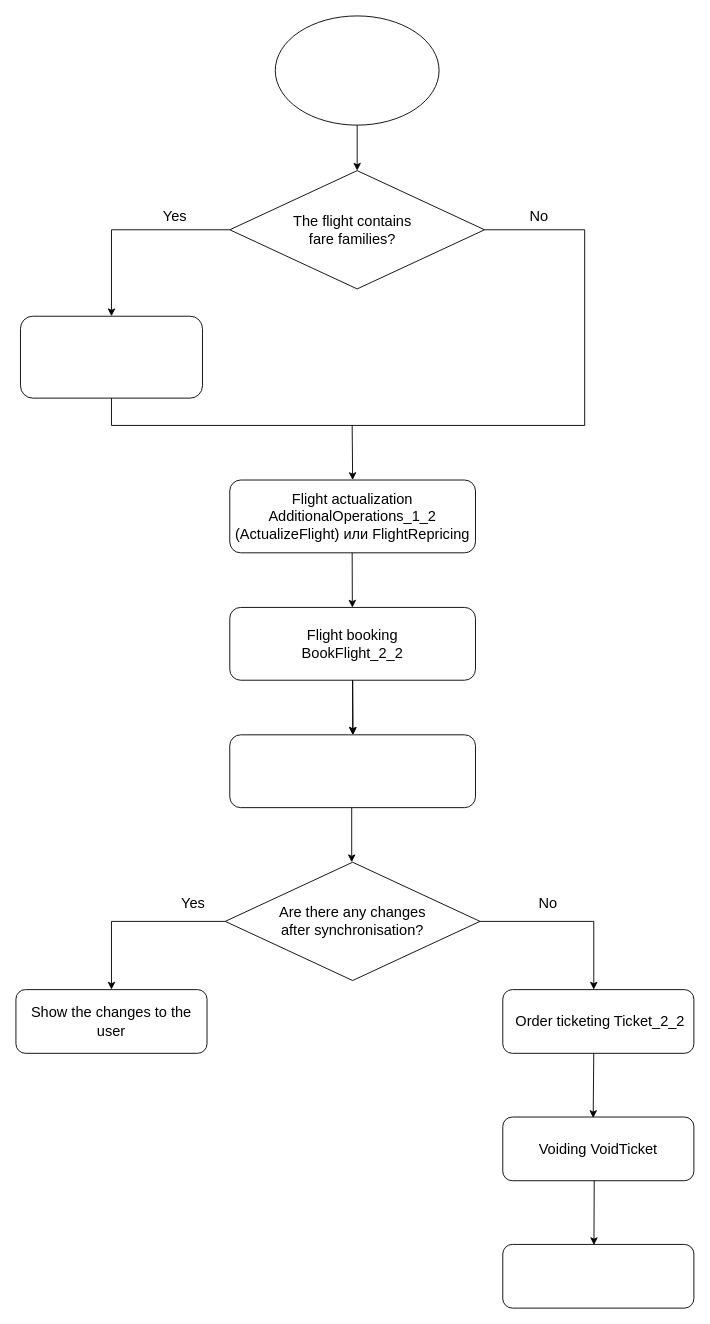
Image size: 710x1324. Some labels were removed from this diagram. The centre of each missing label's shape, as x and y in pixels:
"Booking update from supplier UpdateBook_2_2" goes at (x=352, y=771).
"Flight Search Search_1_2" goes at (x=356, y=70).
"Getting fare families AdditionalOperations_1_2 (GetFareFamilies)" goes at (x=111, y=356).
"Отмена брони CancelBook" goes at (x=598, y=1276).
